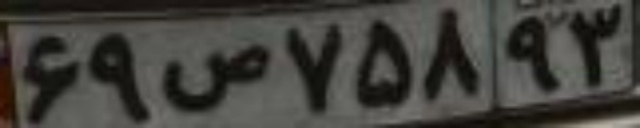3: (567, 2, 625, 86)
5: (357, 21, 412, 104)
6: (20, 35, 83, 121)
7: (279, 21, 348, 111)
8: (425, 10, 483, 99)
9: (86, 32, 150, 121), (508, 16, 558, 92)
saat: (160, 43, 272, 111)
